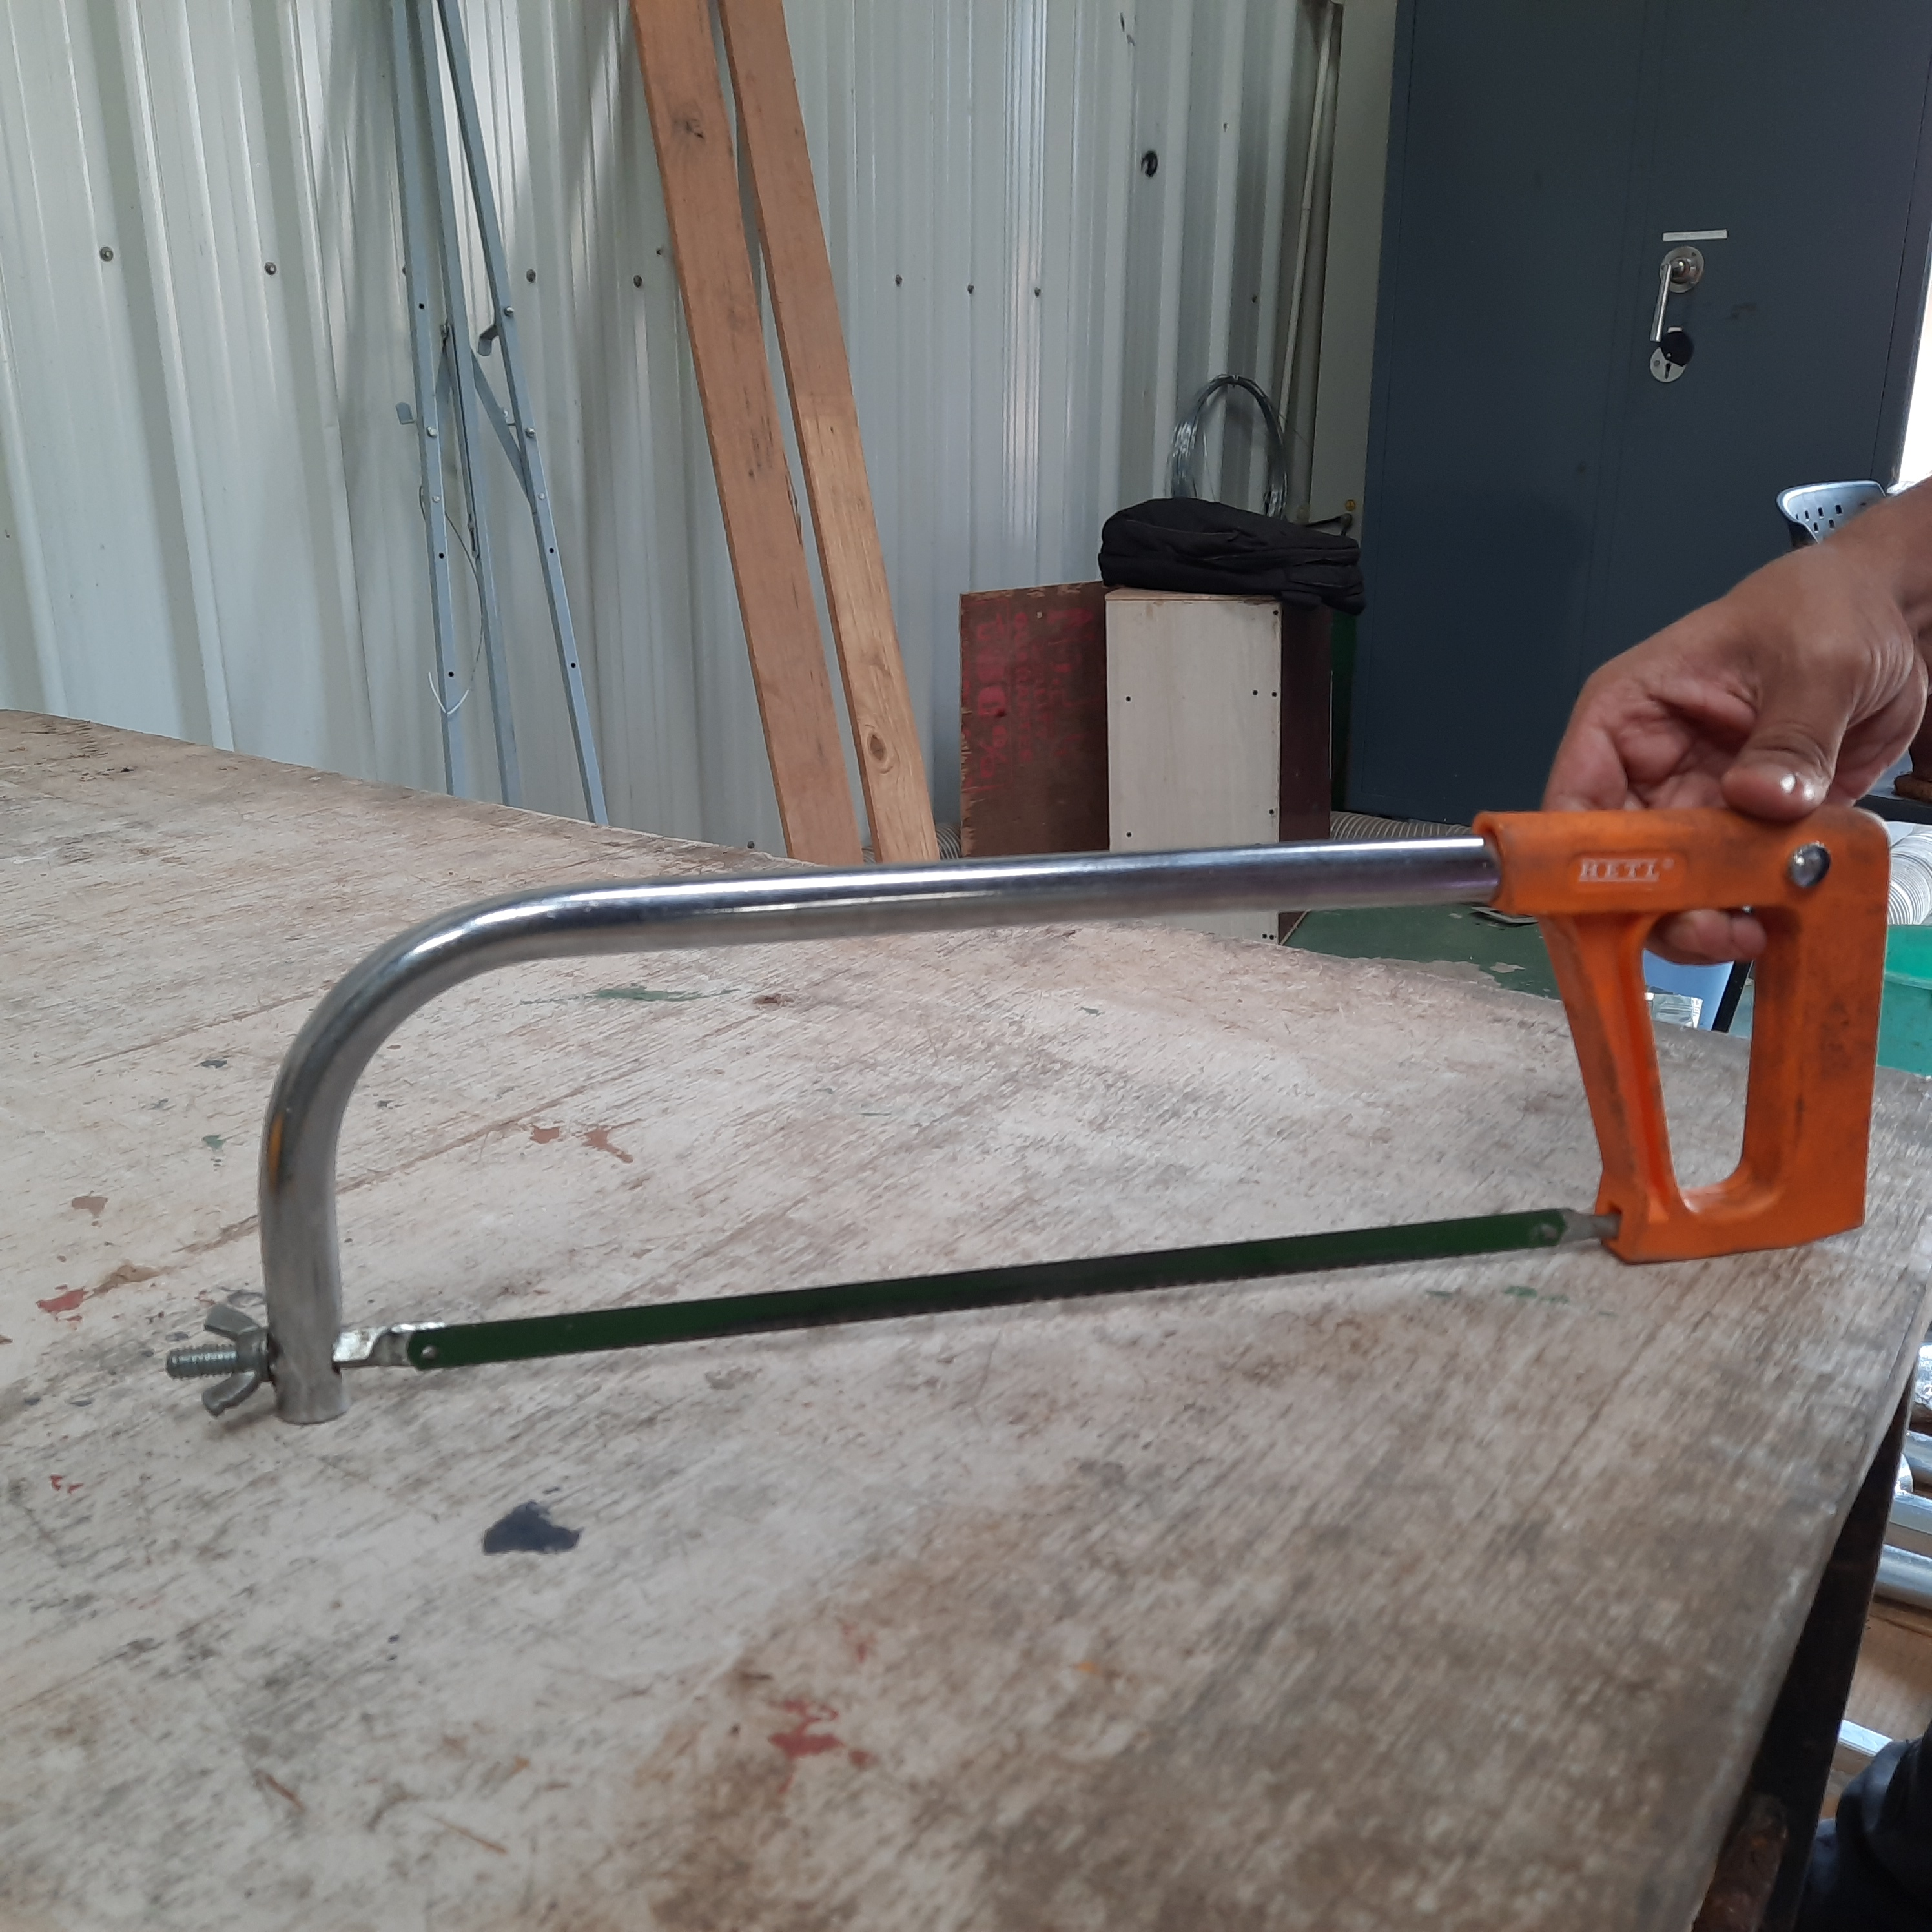Hexaframe: (88, 770, 1897, 1399)
